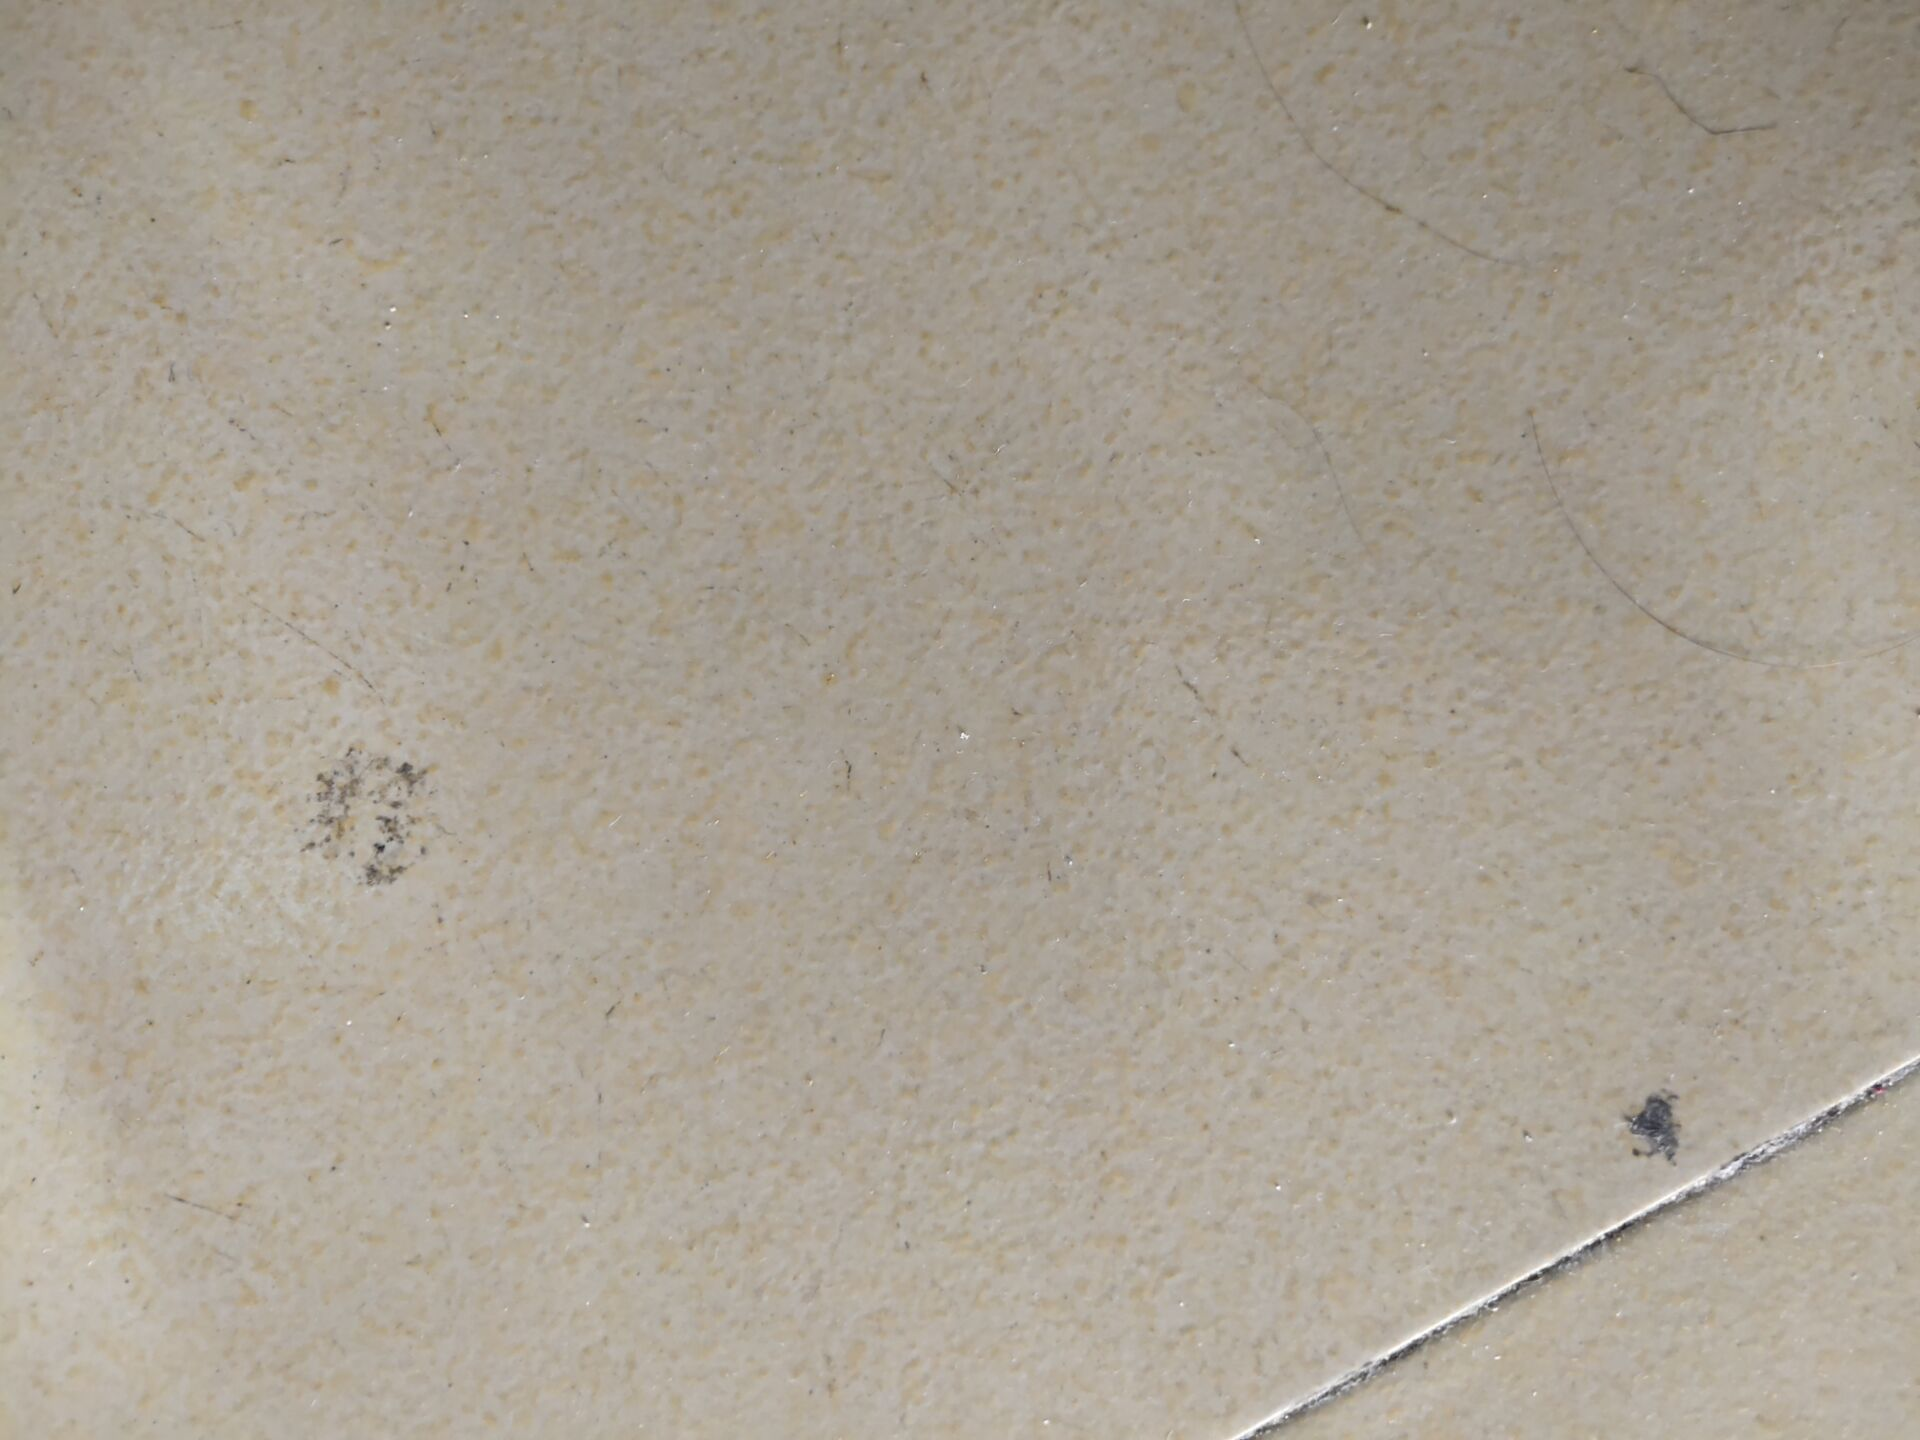grey spot: (305, 740, 432, 894), (1624, 1085, 1684, 1169)
